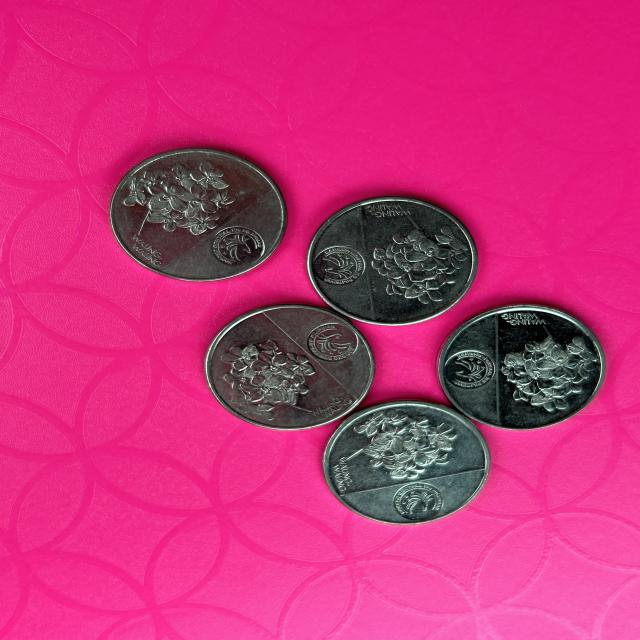1_New_Back: (124, 162, 254, 235), (368, 218, 465, 308), (500, 328, 597, 417), (209, 338, 316, 418), (347, 408, 468, 478)
